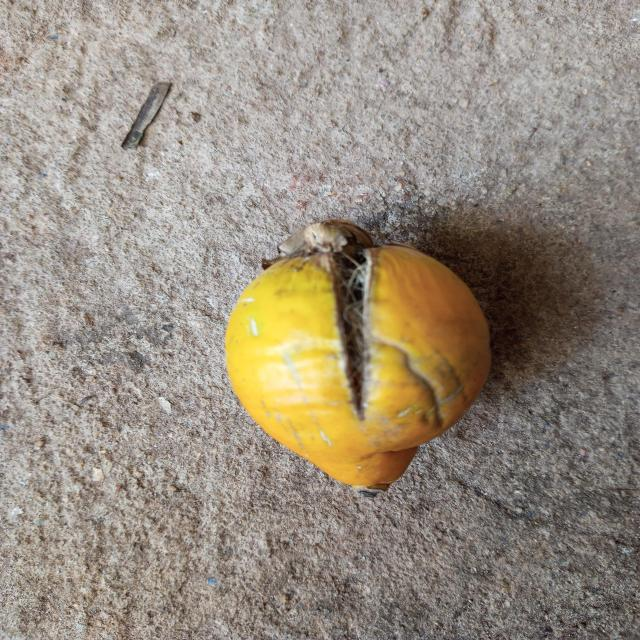damaged: (224, 224, 492, 492)
